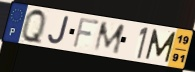1: (136, 27, 149, 60)
F: (71, 16, 101, 50)
J: (47, 15, 71, 46)
M: (144, 28, 178, 64), (92, 21, 127, 55)
Q: (20, 7, 47, 47)
